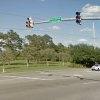Traffic light: (20, 12, 88, 34)
